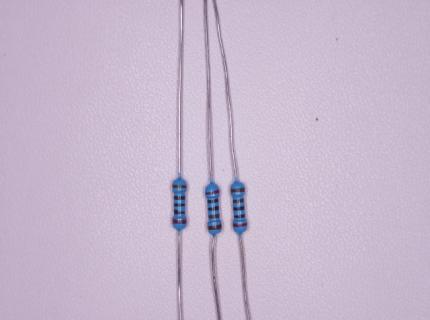Black band: (208, 205, 219, 211), (174, 209, 185, 214), (208, 199, 218, 204), (234, 214, 246, 218), (174, 196, 185, 200), (234, 206, 244, 210), (174, 204, 185, 206)
Brown band: (208, 224, 221, 230), (231, 187, 245, 192), (233, 198, 244, 203), (172, 185, 187, 188), (209, 214, 219, 218)
Red band: (205, 190, 220, 195), (173, 219, 187, 224), (233, 223, 247, 227)
